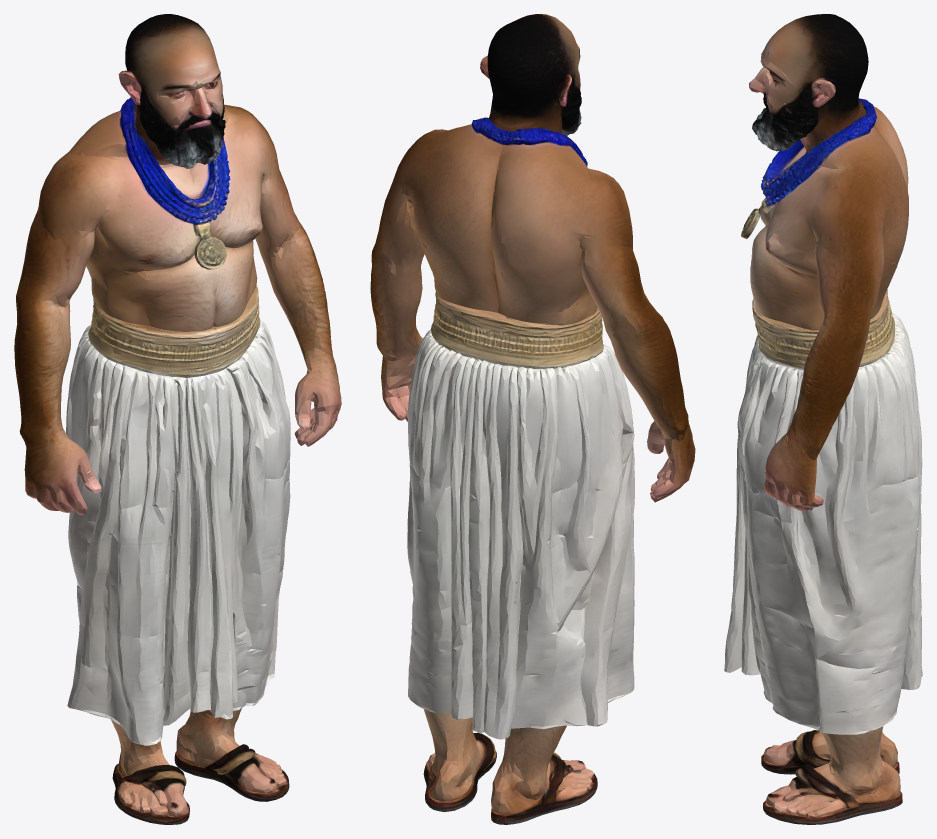
File: high_priest_anu_rodin_source.glb
3 renders of one model, left to right at view 1: azimuth 30°, elevation 25°; view 2: azimuth 150°, elevation 25°; view 3: azimuth 270°, elevation 25°, orthographic. The views are drawn at different scales.
Visible parts, largest first — view 1: model; view 2: model; view 3: model.
Boxes of the visible parts, x1,y1,x2,y2 form: model: (14, 14, 341, 824); model: (370, 14, 695, 824); model: (724, 14, 922, 824).
Size of the model in its own units: 0.7849 by 1.9 by 0.4487.
1 material, 1 textured.
